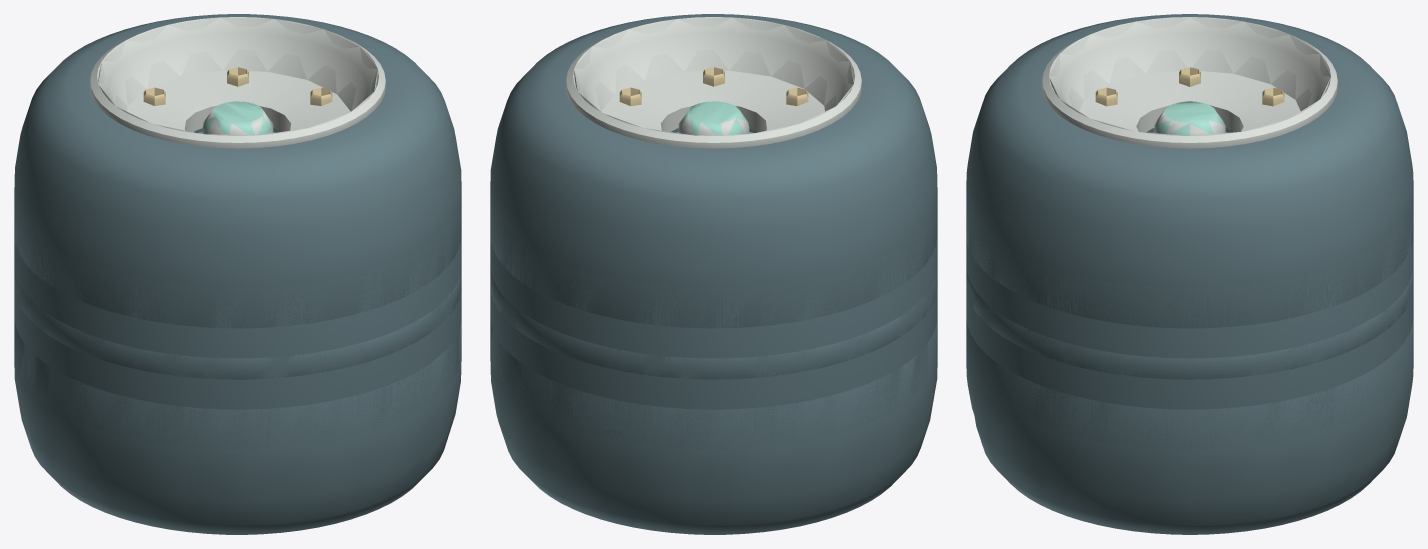
File: refined__drive-wheel.glb
The picture shows the model from 3 angles, left to right: view 1: azimuth 30°, elevation 25°; view 2: azimuth 150°, elevation 25°; view 3: azimuth 270°, elevation 25°; orthographic projection.
Visible parts, largest first — view 1: L0_dark, L1_dark, L0_metal, L1_metal, L0_accent, L0_gold; view 2: L0_dark, L1_dark, L0_metal, L1_metal, L0_accent, L0_gold; view 3: L0_dark, L1_dark, L0_metal, L1_metal, L0_accent, L0_gold.
Part boxes in pixels (<box>): L0_dark: <box>14,14,461,534</box>; L1_dark: <box>14,195,461,449</box>; L0_metal: <box>89,17,386,148</box>; L1_metal: <box>98,17,377,135</box>; L0_accent: <box>197,101,275,135</box>; L0_gold: <box>143,67,332,105</box>; L0_dark: <box>490,14,937,534</box>; L1_dark: <box>490,201,937,449</box>; L0_metal: <box>565,17,862,148</box>; L1_metal: <box>574,17,853,135</box>; L0_accent: <box>676,101,754,135</box>; L0_gold: <box>619,67,808,105</box>; L0_dark: <box>966,14,1413,534</box>; L1_dark: <box>966,199,1413,449</box>; L0_metal: <box>1041,17,1338,148</box>; L1_metal: <box>1049,17,1330,135</box>; L0_accent: <box>1151,101,1228,135</box>; L0_gold: <box>1095,67,1284,106</box>.
Bounding box in the file's own units: 1 × 0.976 × 1.
